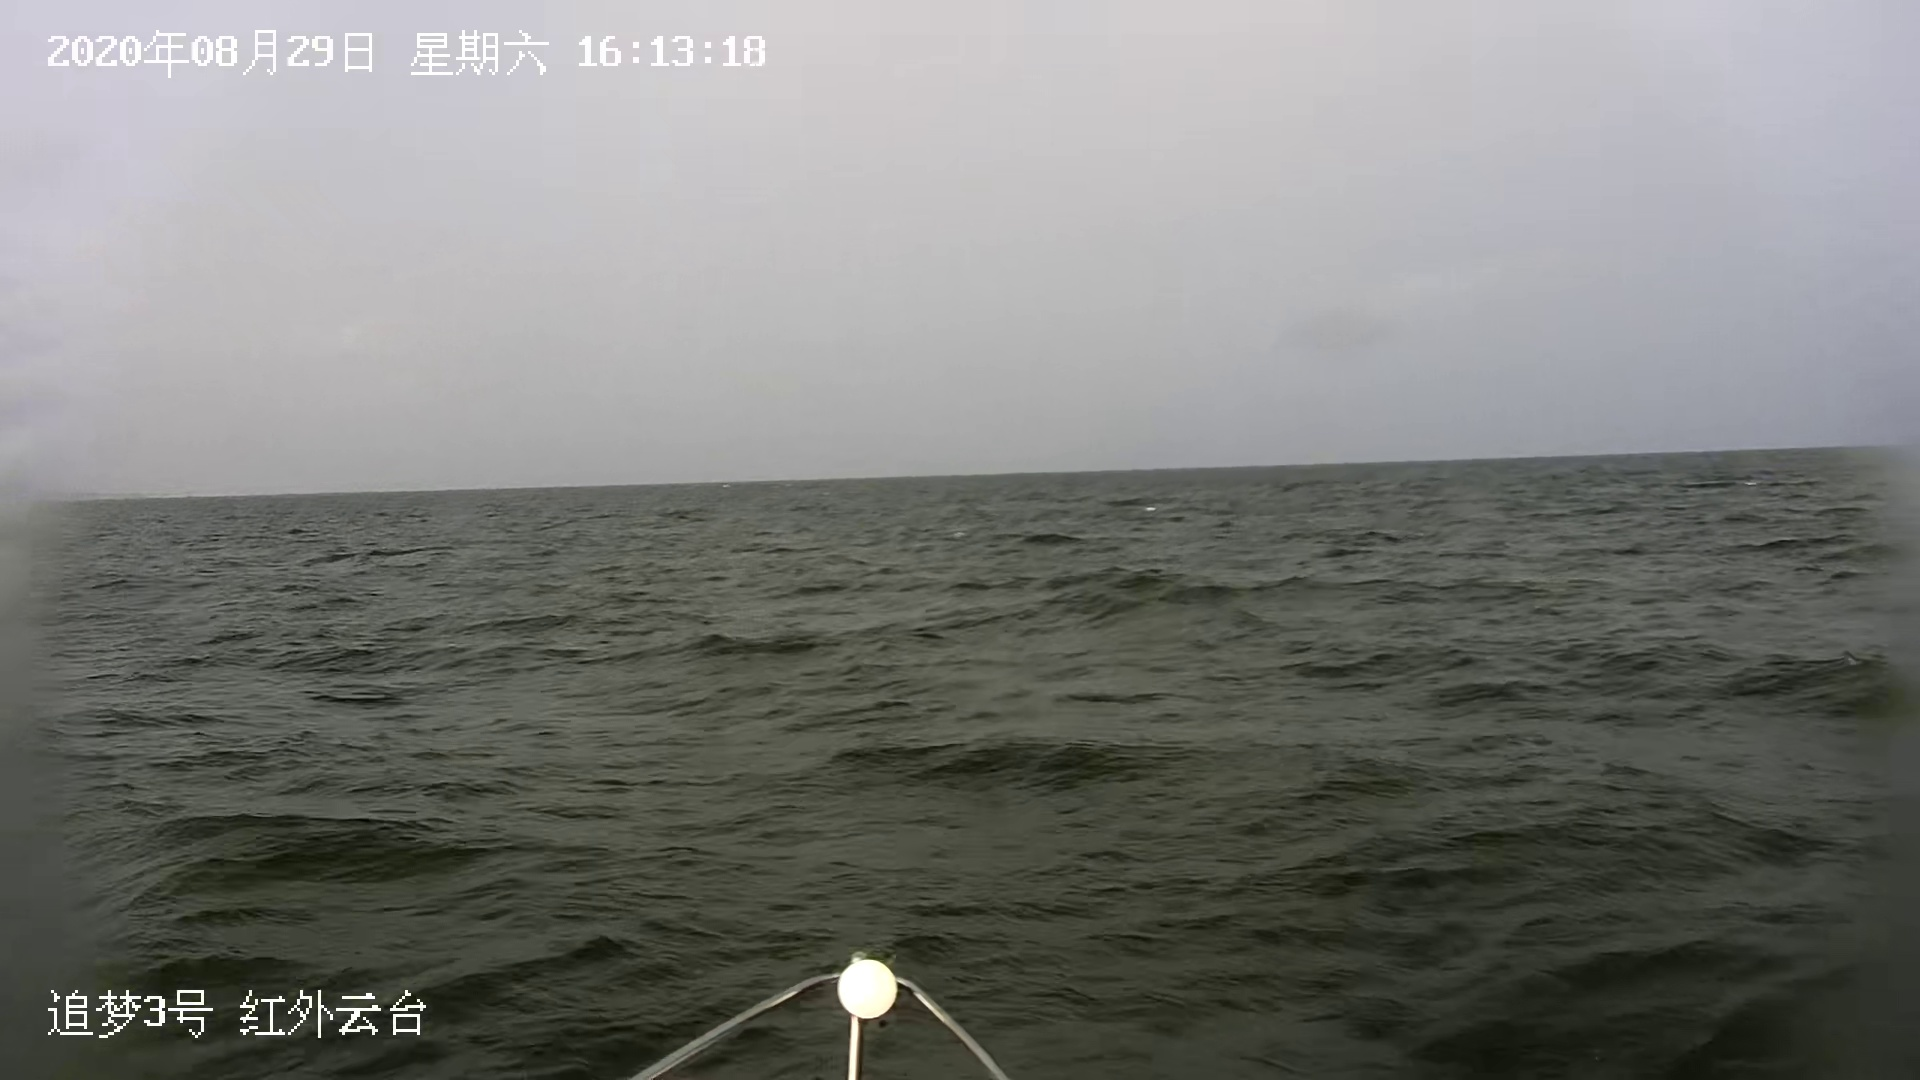coast: (1, 495, 145, 502)
